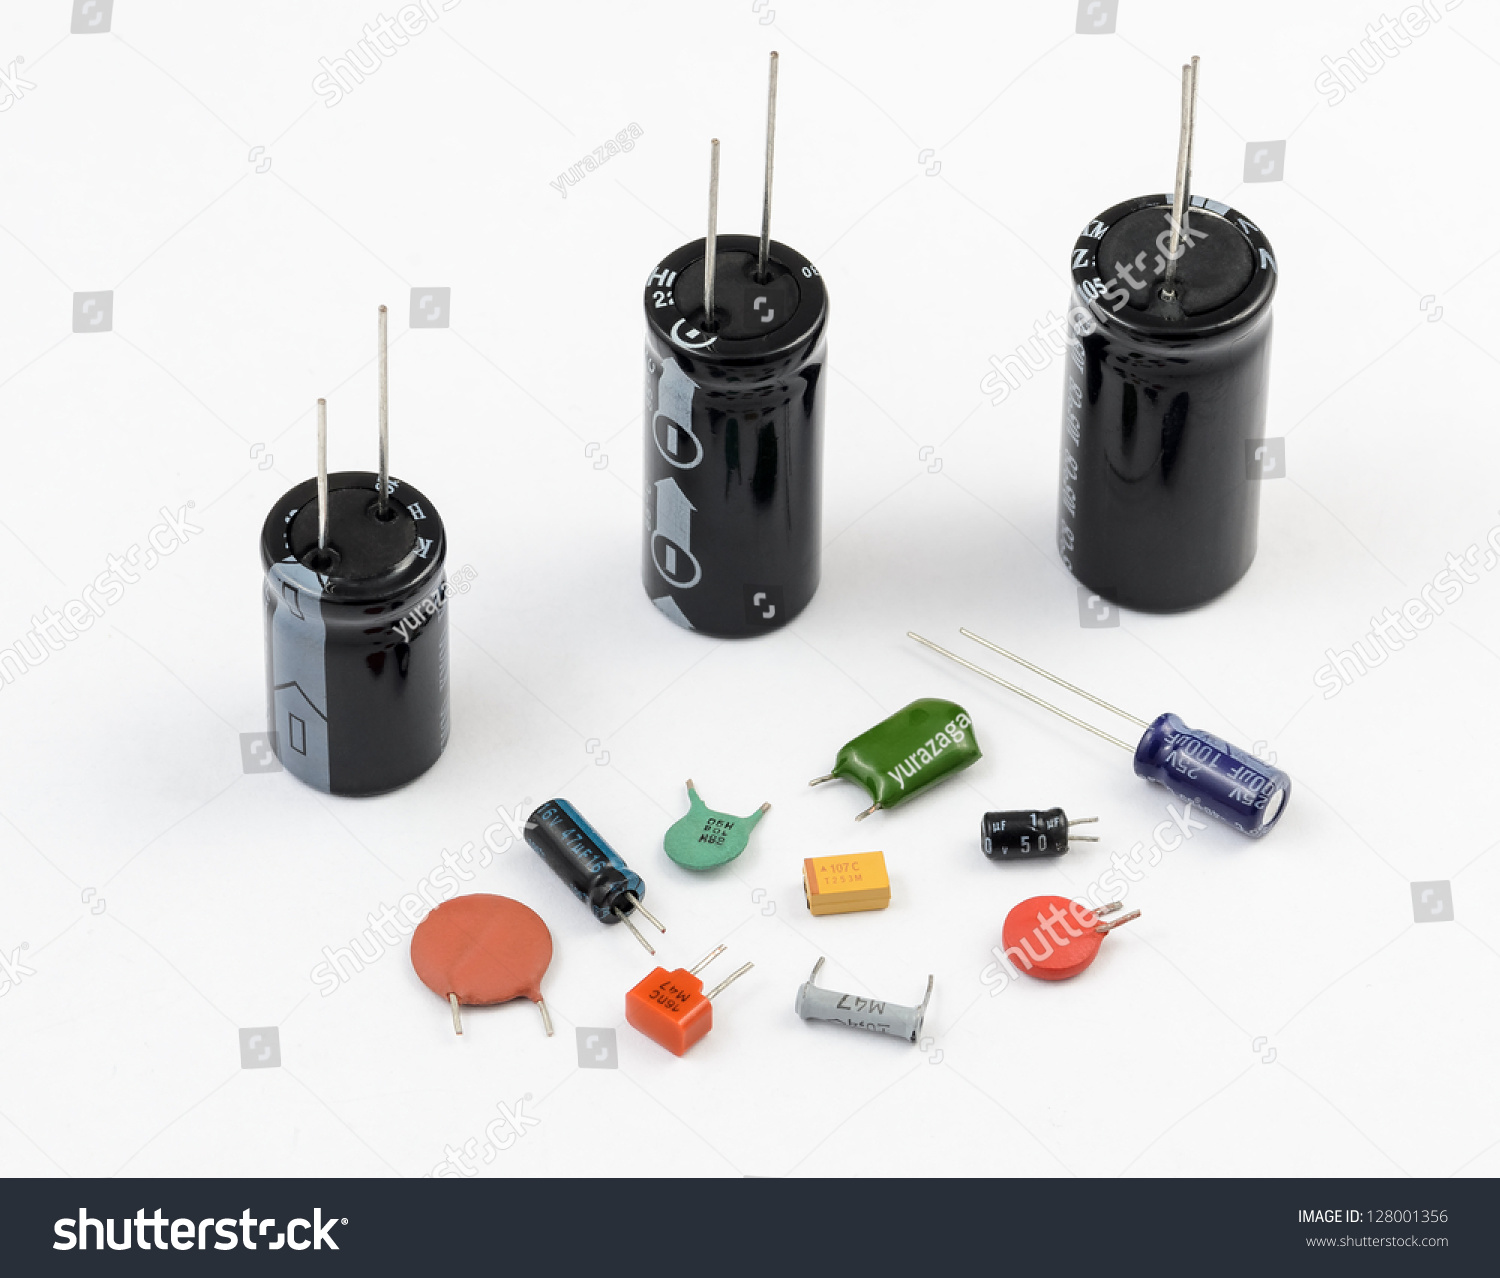capacitor: (586, 131, 877, 720), (1027, 104, 1322, 676), (236, 336, 496, 863), (1088, 676, 1325, 849), (501, 773, 681, 945), (955, 789, 1096, 884)
